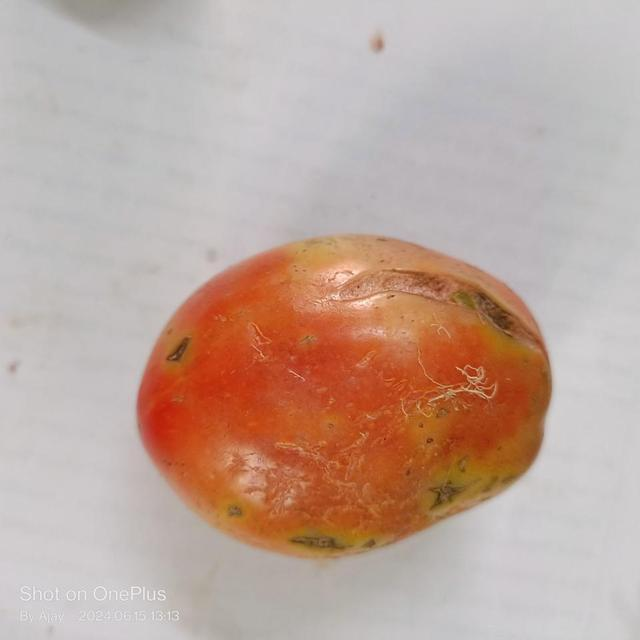Bacterial Spot Fruit: (22, 17, 300, 360)
